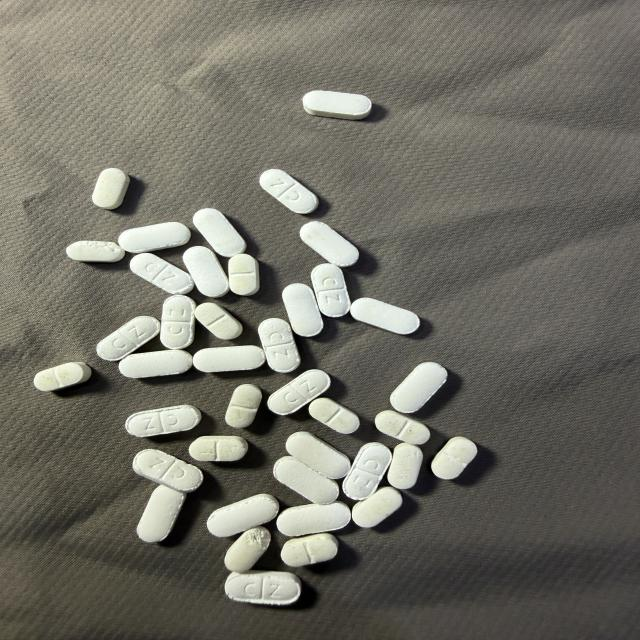pill: (274, 456, 339, 504), (207, 494, 279, 537), (133, 449, 203, 492), (286, 432, 350, 478), (97, 316, 160, 361), (391, 363, 447, 413), (268, 370, 330, 415), (343, 443, 391, 500), (137, 486, 185, 542), (300, 221, 358, 267), (130, 253, 194, 294), (260, 169, 318, 214), (225, 571, 301, 605), (193, 209, 246, 257), (350, 298, 419, 334), (277, 502, 350, 536), (126, 405, 201, 437), (183, 246, 228, 297), (258, 318, 300, 372), (119, 222, 190, 253), (282, 284, 323, 336), (225, 527, 270, 573), (311, 264, 350, 317), (119, 350, 192, 378), (352, 487, 402, 527), (303, 90, 371, 119), (432, 437, 477, 479), (281, 533, 338, 566), (375, 410, 430, 444), (160, 296, 195, 349), (194, 346, 265, 372), (309, 398, 359, 433), (195, 303, 242, 339), (34, 362, 91, 391), (225, 384, 262, 428), (388, 443, 423, 489), (92, 168, 129, 209), (189, 436, 248, 461), (228, 254, 259, 295), (67, 241, 124, 262)
